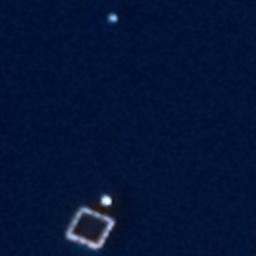square_solid: (63, 204, 119, 252)
